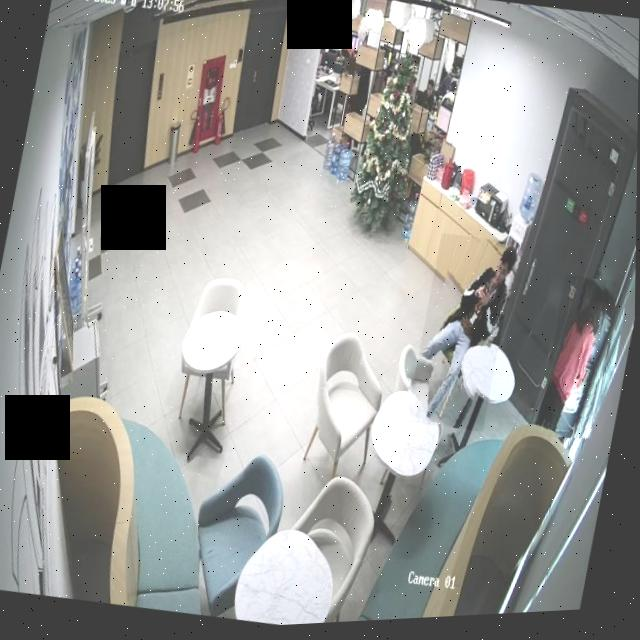person: (407, 234, 519, 440), (536, 279, 617, 449)
